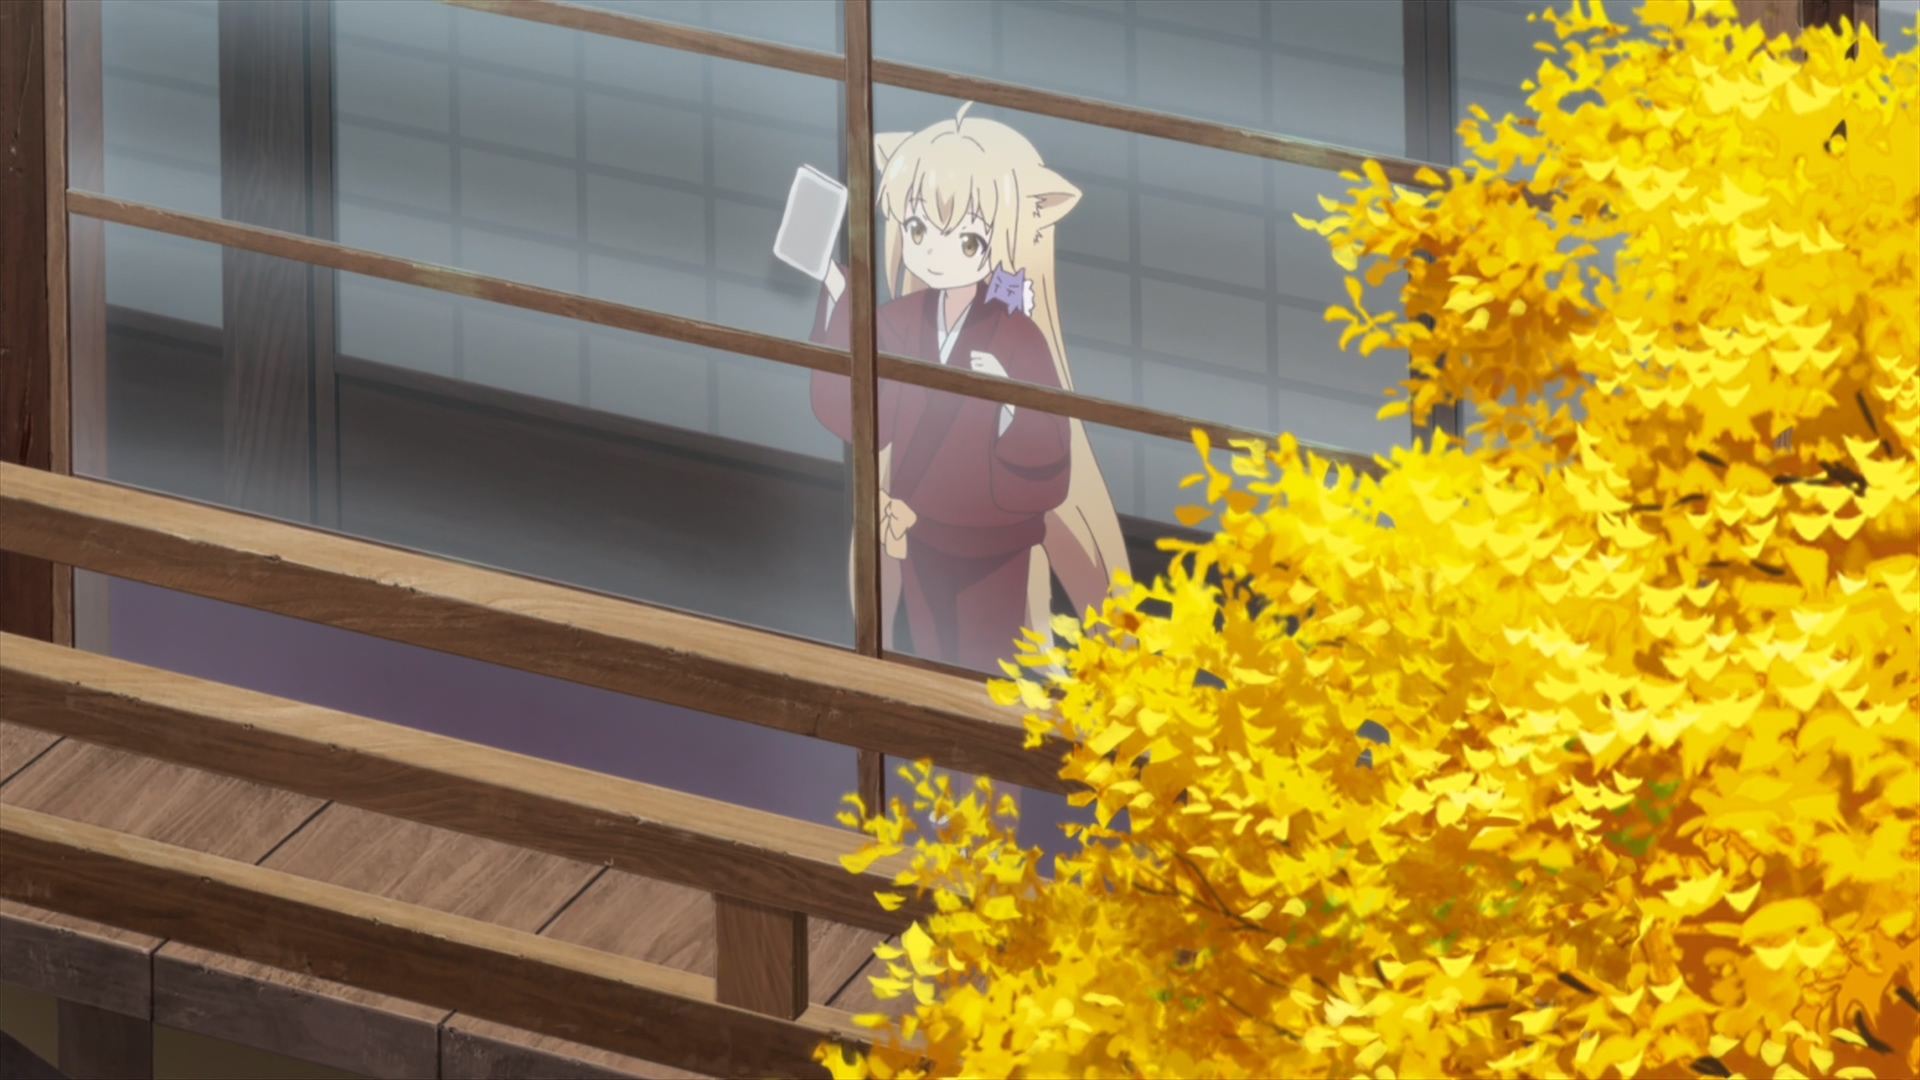柚: (811, 100, 1138, 843)
皋: (982, 261, 1035, 319)
